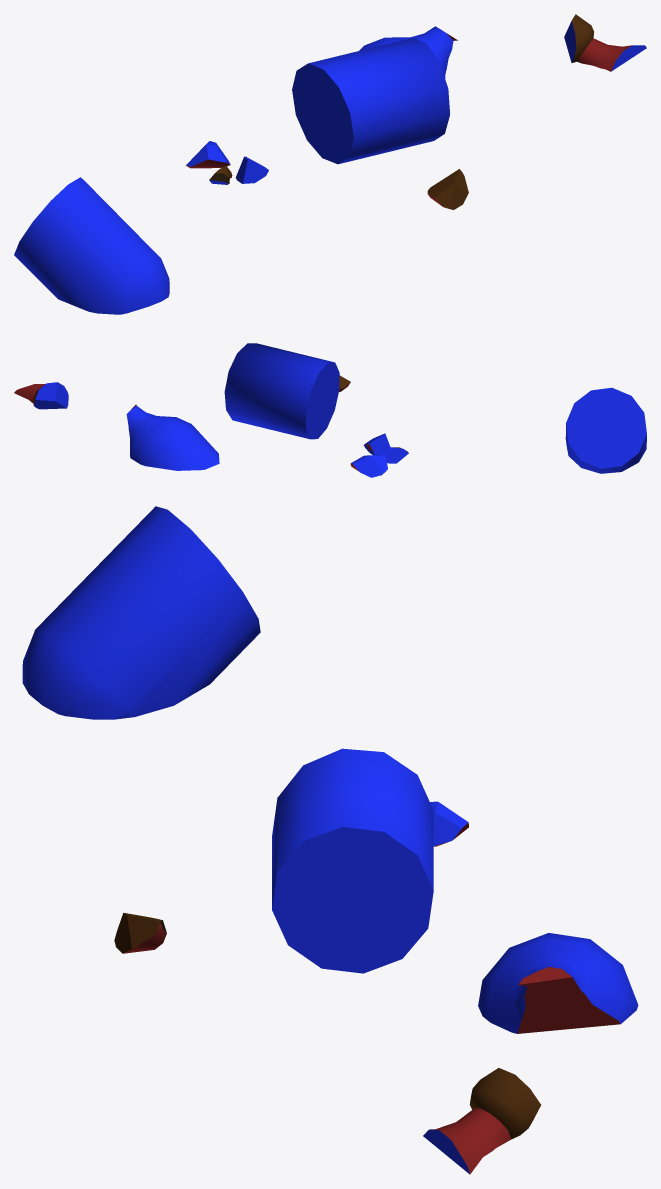
The model's file is Botella_Rota_A.fbx.
3 views of the same model, one above another, from view 1: azimuth 30°, elevation 25°; view 2: azimuth 150°, elevation 25°; view 3: azimuth 270°, elevation 25° (orthographic). The views are drawn at different scales.
Visible parts, largest first — view 1: Botella_Rota_A; view 2: Botella_Rota_A; view 3: Botella_Rota_A.
Boxes of the visible parts, x1,y1,x2,y2 form: Botella_Rota_A: (14,14,646,314); Botella_Rota_A: (14,343,646,477); Botella_Rota_A: (22,506,638,1174).
Size of the model in its own units: 1.6 by 0.2187 by 0.7644.
